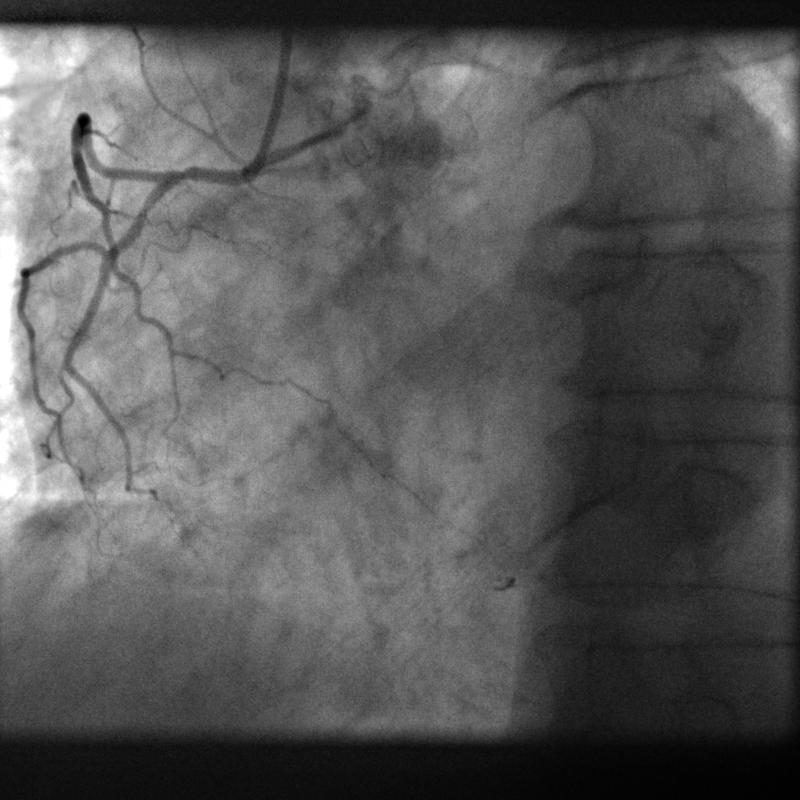Stenosis: (164, 153, 209, 192)
